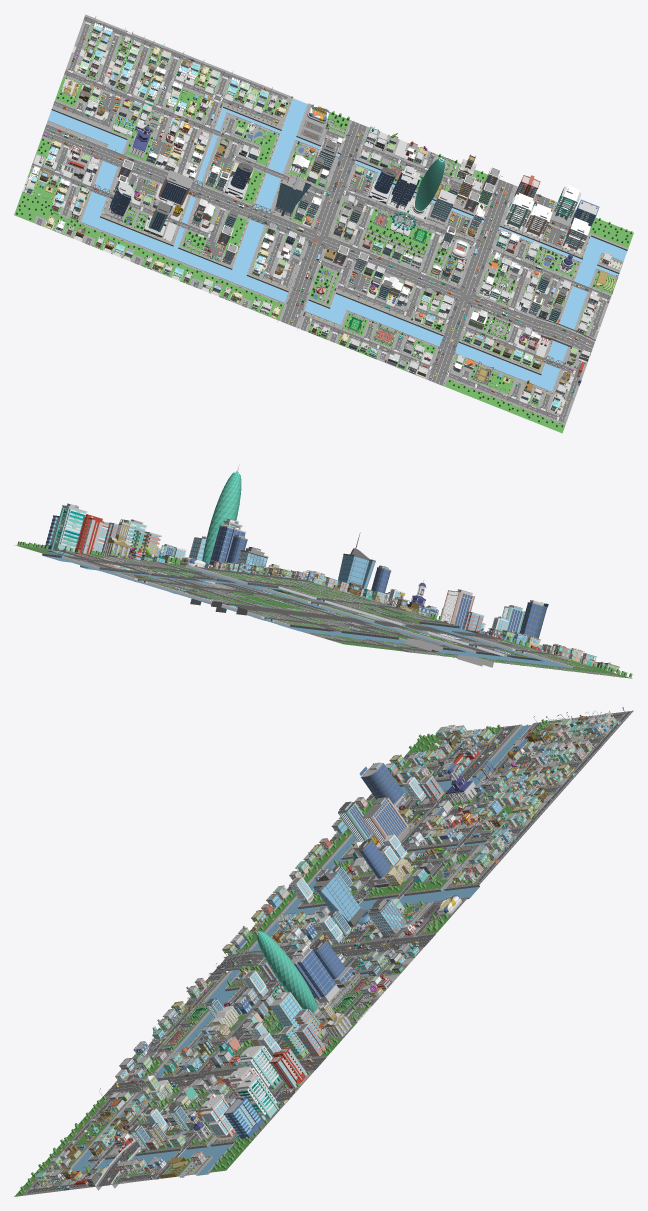
File: city.glb
The picture shows the model from 3 angles, top to bottom: view 1: azimuth 30°, elevation 25°; view 2: azimuth 150°, elevation 25°; view 3: azimuth 270°, elevation 25°; orthographic projection. The views are drawn at different scales.
Parts seen in each view (by area): view 1: GeometryNode_989, GeometryNode_107, GeometryNode_695, GeometryNode_499, GeometryNode_5, GeometryNode_597, GeometryNode_513, GeometryNode_835, GeometryNode_667, GeometryNode_639, GeometryNode_583, GeometryNode_653; view 2: GeometryNode_989, GeometryNode_583, GeometryNode_107, GeometryNode_695, GeometryNode_499, GeometryNode_93, GeometryNode_5, GeometryNode_1087, GeometryNode_653, GeometryNode_51, GeometryNode_835, GeometryNode_667 (+4 smaller); view 3: GeometryNode_989, GeometryNode_499, GeometryNode_107, GeometryNode_695, GeometryNode_5, GeometryNode_583, GeometryNode_51, GeometryNode_79, GeometryNode_597, GeometryNode_667, GeometryNode_625, GeometryNode_93 (+5 smaller).
Boxes of the visible parts, bbox=[...] form: GeometryNode_989: bbox=[410, 157, 444, 215]; GeometryNode_107: bbox=[274, 169, 311, 216]; GeometryNode_695: bbox=[154, 170, 192, 210]; GeometryNode_499: bbox=[388, 165, 420, 210]; GeometryNode_5: bbox=[104, 181, 133, 221]; GeometryNode_597: bbox=[505, 193, 534, 228]; GeometryNode_513: bbox=[427, 189, 456, 226]; GeometryNode_835: bbox=[224, 163, 253, 199]; GeometryNode_667: bbox=[368, 167, 396, 203]; GeometryNode_639: bbox=[525, 203, 552, 236]; GeometryNode_583: bbox=[554, 185, 580, 220]; GeometryNode_653: bbox=[143, 201, 170, 237]; GeometryNode_989: bbox=[201, 464, 241, 586]; GeometryNode_583: bbox=[50, 503, 87, 556]; GeometryNode_107: bbox=[338, 532, 375, 588]; GeometryNode_695: bbox=[431, 589, 475, 640]; GeometryNode_499: bbox=[209, 519, 246, 588]; GeometryNode_93: bbox=[74, 514, 103, 558]; GeometryNode_5: bbox=[516, 600, 548, 657]; GeometryNode_1087: bbox=[102, 519, 131, 562]; GeometryNode_653: bbox=[487, 605, 525, 654]; GeometryNode_51: bbox=[237, 547, 268, 590]; GeometryNode_835: bbox=[354, 565, 391, 621]; GeometryNode_667: bbox=[215, 534, 247, 589]; GeometryNode_989: bbox=[254, 926, 321, 1017]; GeometryNode_499: bbox=[291, 944, 342, 1004]; GeometryNode_107: bbox=[313, 862, 363, 927]; GeometryNode_695: bbox=[362, 797, 414, 849]; GeometryNode_5: bbox=[359, 762, 410, 811]; GeometryNode_583: bbox=[236, 1075, 278, 1120]; GeometryNode_51: bbox=[367, 898, 408, 938]; GeometryNode_79: bbox=[223, 1097, 263, 1138]; GeometryNode_597: bbox=[240, 1045, 281, 1089]; GeometryNode_667: bbox=[313, 939, 357, 987]; GeometryNode_625: bbox=[200, 1096, 235, 1137]; GeometryNode_93: bbox=[270, 1047, 307, 1088].
Bounding box in the file's own units: 473 × 243 × 384.
2 materials, 2 textured.
